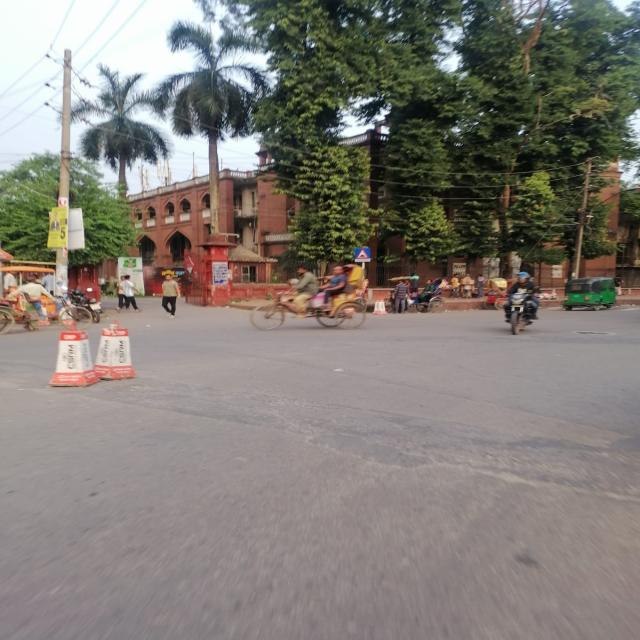person: (162, 273, 180, 318)
